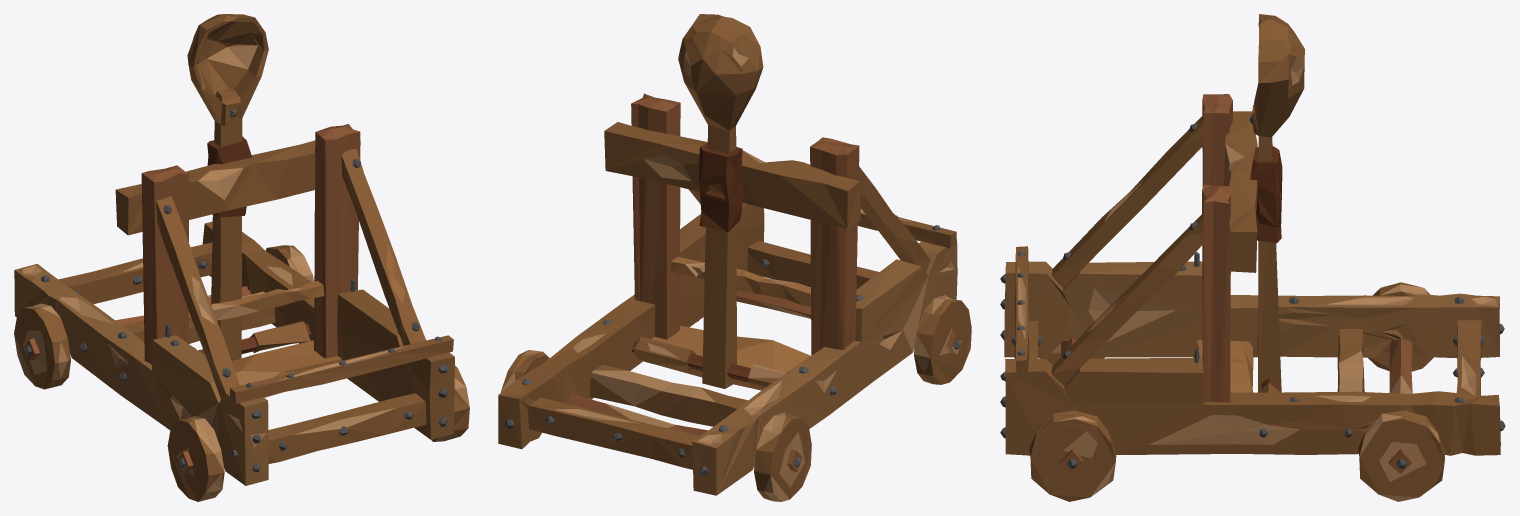
File: LPSWP_Catapult01.fbx
3 views of the same model, side by side, from view 1: azimuth 30°, elevation 25°; view 2: azimuth 150°, elevation 25°; view 3: azimuth 270°, elevation 25° (orthographic). The views are drawn at different scales.
Visible parts, largest first — view 1: LPSWP_Catapult01, LPSWP_Catapult01_Catapult, LPSWP_Catapult01_BackwardWheel, LPSWP_Catapult01_ForwardWheel; view 2: LPSWP_Catapult01, LPSWP_Catapult01_Catapult, LPSWP_Catapult01_BackwardWheel, LPSWP_Catapult01_ForwardWheel; view 3: LPSWP_Catapult01, LPSWP_Catapult01_Catapult, LPSWP_Catapult01_BackwardWheel, LPSWP_Catapult01_ForwardWheel.
Boxes of the visible parts, x1,y1,x2,y2 form: LPSWP_Catapult01: (14,124,454,485); LPSWP_Catapult01_Catapult: (187,14,311,360); LPSWP_Catapult01_BackwardWheel: (14,245,313,389); LPSWP_Catapult01_ForwardWheel: (167,365,469,501); LPSWP_Catapult01: (498,93,961,495); LPSWP_Catapult01_Catapult: (631,14,785,388); LPSWP_Catapult01_BackwardWheel: (501,350,811,501); LPSWP_Catapult01_ForwardWheel: (697,290,971,384); LPSWP_Catapult01: (1000,94,1505,468); LPSWP_Catapult01_Catapult: (1249,14,1304,392); LPSWP_Catapult01_BackwardWheel: (1358,282,1444,501); LPSWP_Catapult01_ForwardWheel: (1029,337,1116,501).
Size of the model in its own units: 2.02 by 2.68 by 2.96.
